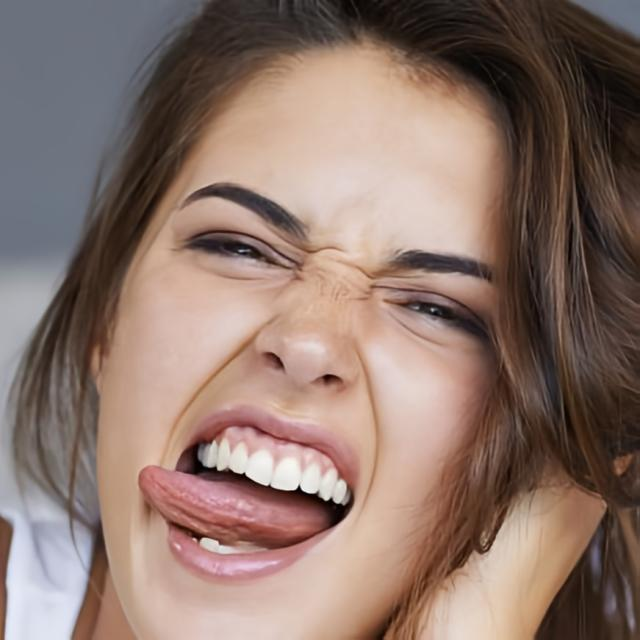disgust: (94, 30, 524, 640)
